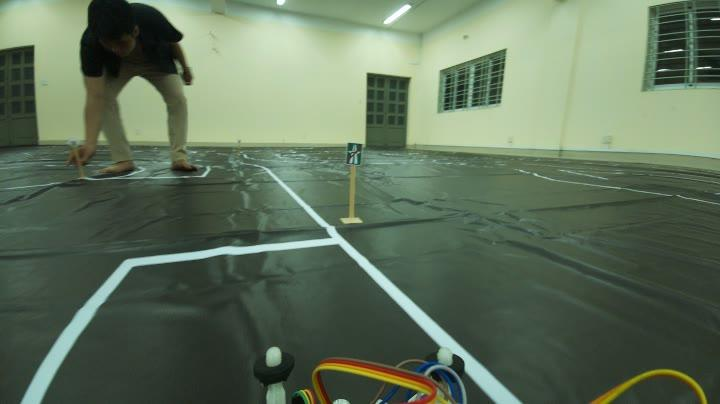highway_exit: (346, 140, 367, 168)
